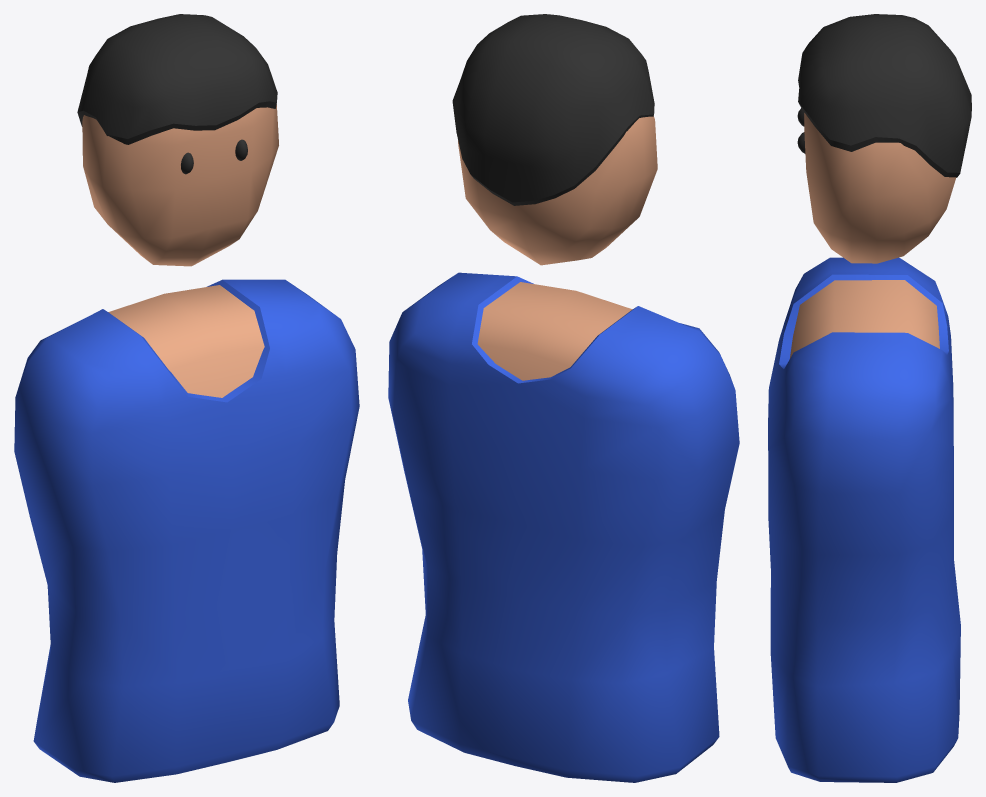
The model's file is VR_Character_2.fbx.
The picture shows the model from 3 angles, left to right: view 1: azimuth 30°, elevation 25°; view 2: azimuth 150°, elevation 25°; view 3: azimuth 270°, elevation 25°; orthographic projection. The views are drawn at different scales.
Visible parts, largest first — view 1: VR_Character.002; view 2: VR_Character.002; view 3: VR_Character.002.
Boxes of the visible parts, x1=… form: VR_Character.002: x1=14, y1=14, x2=359, y2=782; VR_Character.002: x1=388, y1=14, x2=739, y2=782; VR_Character.002: x1=768, y1=14, x2=971, y2=782.
Size of the model in its own units: 62.64 by 137 by 36.45.
